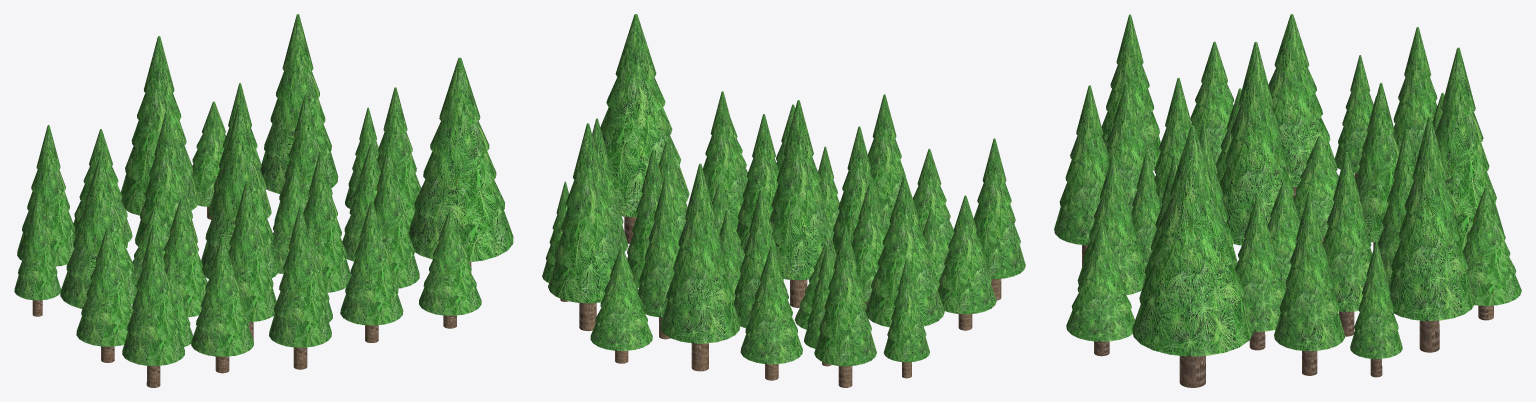
The model's file is Tree Forest.fbx.
3 renders of one model, left to right at view 1: azimuth 30°, elevation 25°; view 2: azimuth 150°, elevation 25°; view 3: azimuth 270°, elevation 25°, orthographic. The views are drawn at different scales.
Parts seen in each view (by area): view 1: Tree29, Tree18, Tree13, Tree30, Tree28, Tree3, Tree7, Tree26, Tree16, Tree8, Tree27, Tree4 (+17 smaller); view 2: Tree13, Tree29, Tree18, Tree3, Tree7, Tree17, Tree11, Tree8, Tree28, Tree10, Tree12, Tree25 (+17 smaller); view 3: Tree29, Tree18, Tree3, Tree22, Tree13, Tree7, Tree19, Tree27, Tree30, Tree10, Tree24, Tree14 (+15 smaller).
Part boxes in pixels (x1,y1,x2,y2): Tree29: (408,57,513,272); Tree18: (260,14,338,193); Tree13: (120,36,199,215); Tree30: (269,205,331,369); Tree28: (122,224,184,387); Tree3: (201,103,279,278); Tree7: (60,157,137,308); Tree26: (340,200,403,342); Tree16: (191,237,253,373); Tree8: (76,226,133,362); Tree27: (419,210,481,328); Tree4: (228,180,276,339); Tree13: (660,163,740,371); Tree29: (600,14,689,243); Tree18: (548,123,619,331); Tree3: (770,100,836,307); Tree7: (865,176,944,327); Tree17: (814,225,876,387); Tree11: (740,245,802,380); Tree8: (937,195,996,330); Tree28: (973,138,1025,300); Tree10: (590,246,652,363); Tree12: (638,177,681,339); Tree25: (703,91,745,226); Tree29: (1132,125,1253,387); Tree18: (1388,116,1474,352); Tree3: (1220,41,1300,245); Tree22: (1274,191,1344,375); Tree13: (1435,47,1503,250); Tree7: (1268,14,1337,198); Tree19: (1322,152,1371,336); Tree27: (1066,222,1134,356); Tree30: (1054,85,1109,266); Tree10: (1462,186,1521,320); Tree24: (1235,196,1286,350); Tree14: (1357,82,1399,248).
Bounding box in the file's own units: 25.65 × 13.39 × 22.15.
Materials: 3 (2 with a texture image).
